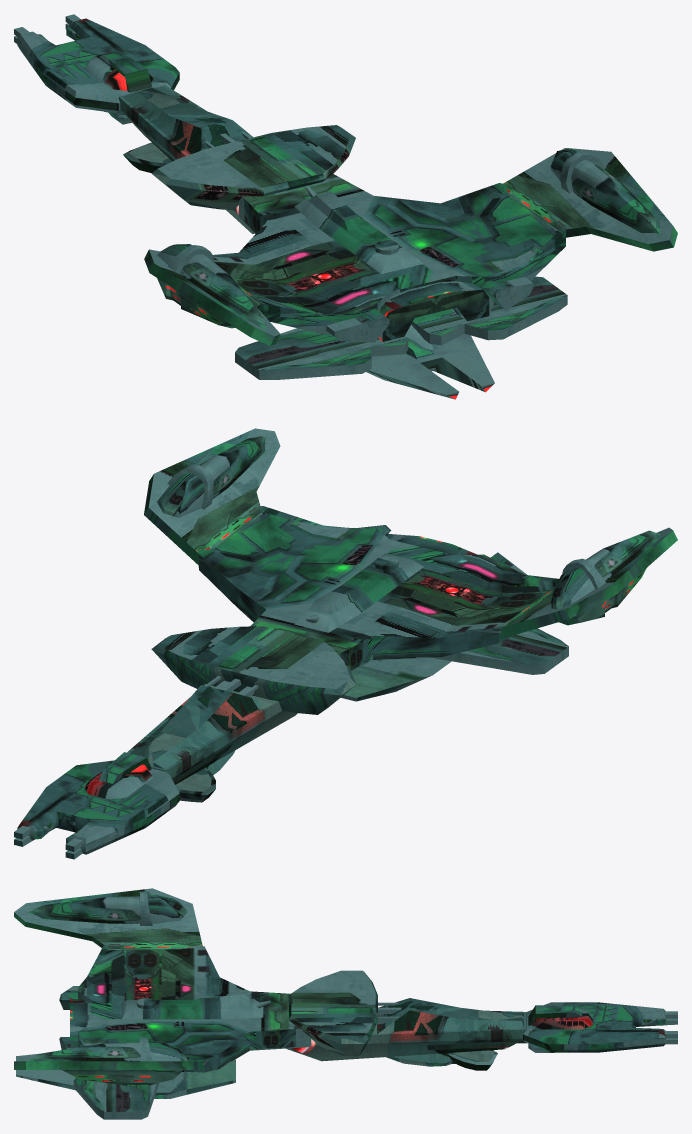
Rendered from Kling_Kron.fbx.
3 views of the same model, one above another, from view 1: azimuth 30°, elevation 25°; view 2: azimuth 150°, elevation 25°; view 3: azimuth 270°, elevation 25° (orthographic). The views are drawn at different scales.
Visible parts, largest first — view 1: Kling_Kron; view 2: Kling_Kron; view 3: Kling_Kron.
Part boxes in pixels (x1=…): Kling_Kron: x1=14, y1=14, x2=677, y2=399; Kling_Kron: x1=14, y1=428, x2=677, y2=859; Kling_Kron: x1=14, y1=888, x2=677, y2=1119.
Bounding box in the file's own units: 580 × 189 × 921.
1 material, 1 textured.
